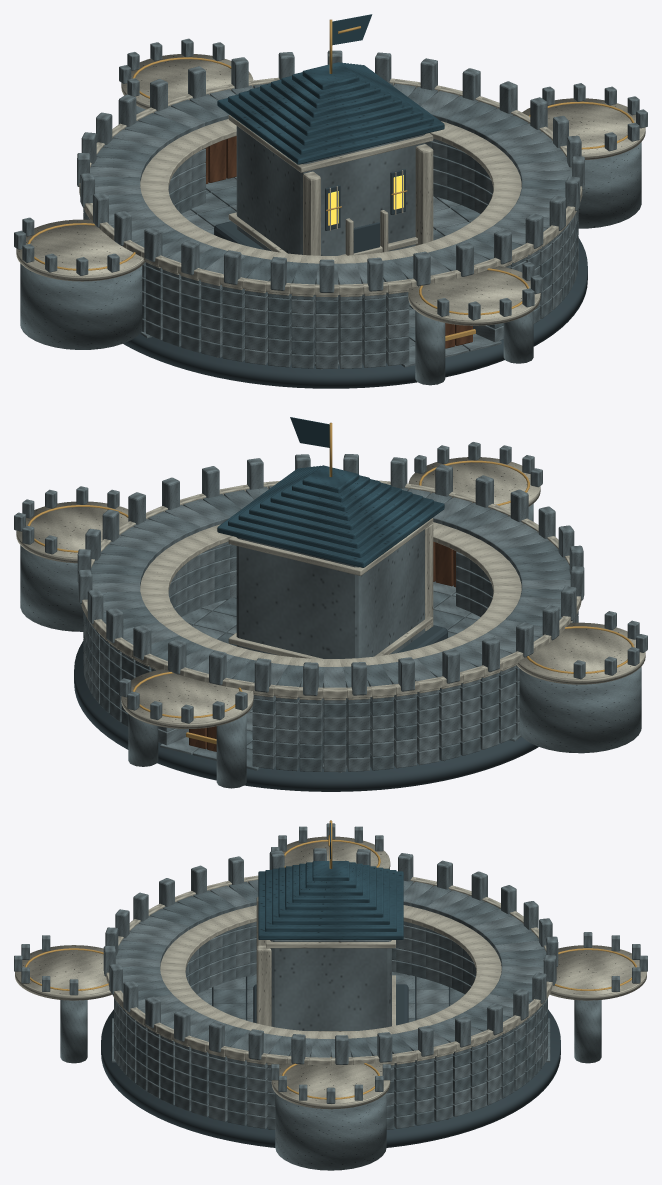
File: castle-1.glb
3 renders of one model, top to bottom at view 1: azimuth 30°, elevation 25°; view 2: azimuth 150°, elevation 25°; view 3: azimuth 270°, elevation 25°, orthographic. The views are drawn at different scales.
Parts seen in each view (by area): view 1: RoyalKeep_Blue slate, RoyalKeep_Weathered castle stone 2, SouthWall_Weathered castle stone 2, CastleBase_Masonry recess, Bastion_3_Weathered castle stone 1, WestWall_Weathered castle stone 2, RoyalKeep_Carved limestone, EastWall_Weathered castle stone 2, SouthWall_Weathered castle stone 1, WestWall_Weathered castle stone 1, SouthWall_Carved limestone, Bastion_2_Carved limestone (+30 smaller); view 2: RoyalKeep_Weathered castle stone 2, RoyalKeep_Blue slate, NorthWall_Weathered castle stone 2, CastleBase_Masonry recess, Bastion_3_Weathered castle stone 1, EastWall_Weathered castle stone 2, WestWall_Weathered castle stone 2, NorthWall_Weathered castle stone 0, NorthWall_Carved limestone, WestWall_Weathered castle stone 3, SouthWall_Weathered castle stone 2, Bastion_3_Carved limestone (+29 smaller); view 3: RoyalKeep_Blue slate, RoyalKeep_Weathered castle stone 2, CastleBase_Masonry recess, EastWall_Weathered castle stone 2, Bastion_1_Weathered castle stone 1, SouthWall_Weathered castle stone 2, EastWall_Weathered castle stone 0, NorthWall_Weathered castle stone 2, EastWall_Weathered castle stone 1, EastWall_Carved limestone, EastWall_Weathered castle stone 3, NorthWall_Weathered castle stone 0 (+27 smaller).
Part boxes in pixels (<box>): RoyalKeep_Blue slate: <box>217,14,444,164</box>; RoyalKeep_Weathered castle stone 2: <box>236,126,425,255</box>; SouthWall_Weathered castle stone 2: <box>270,195,569,368</box>; CastleBase_Masonry recess: <box>123,238,587,388</box>; Bastion_3_Weathered castle stone 1: <box>20,263,142,349</box>; WestWall_Weathered castle stone 2: <box>77,132,268,351</box>; RoyalKeep_Carved limestone: <box>228,115,433,255</box>; EastWall_Weathered castle stone 2: <box>393,58,584,249</box>; SouthWall_Weathered castle stone 1: <box>268,238,569,368</box>; WestWall_Weathered castle stone 1: <box>83,157,268,361</box>; SouthWall_Carved limestone: <box>266,205,573,297</box>; Bastion_2_Carved limestone: <box>408,266,540,325</box>; RoyalKeep_Weathered castle stone 2: <box>236,529,424,658</box>; RoyalKeep_Blue slate: <box>217,417,444,567</box>; NorthWall_Weathered castle stone 2: <box>87,589,393,771</box>; CastleBase_Masonry recess: <box>74,641,538,791</box>; Bastion_3_Weathered castle stone 1: <box>519,666,641,753</box>; EastWall_Weathered castle stone 2: <box>77,458,268,693</box>; WestWall_Weathered castle stone 2: <box>393,545,584,768</box>; NorthWall_Weathered castle stone 0: <box>92,606,393,771</box>; NorthWall_Carved limestone: <box>88,607,395,700</box>; WestWall_Weathered castle stone 3: <box>393,580,578,765</box>; SouthWall_Weathered castle stone 2: <box>295,454,574,616</box>; Bastion_3_Carved limestone: <box>517,622,645,684</box>; RoyalKeep_Blue slate: <box>258,823,403,939</box>; RoyalKeep_Weathered castle stone 2: <box>270,940,391,1030</box>; CastleBase_Masonry recess: <box>101,976,560,1147</box>; EastWall_Weathered castle stone 2: <box>174,1010,486,1128</box>; Bastion_1_Weathered castle stone 1: <box>275,1093,386,1170</box>; SouthWall_Weathered castle stone 2: <box>103,878,198,1092</box>; EastWall_Weathered castle stone 0: <box>191,1027,486,1129</box>; NorthWall_Weathered castle stone 2: <box>452,885,558,1105</box>; EastWall_Weathered castle stone 1: <box>175,1022,486,1129</box>; EastWall_Carved limestone: <box>171,1014,490,1065</box>; EastWall_Weathered castle stone 3: <box>175,1029,486,1121</box>; NorthWall_Weathered castle stone 0: <box>452,902,547,1098</box>.
Size of the model in its own units: 18.75 by 7.6 by 18.75.
Materials: 10 (7 with a texture image).
